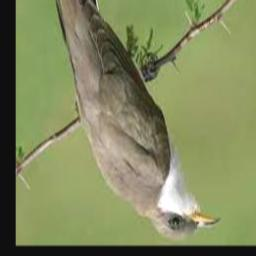Cuckoo: (51, 0, 220, 240)
